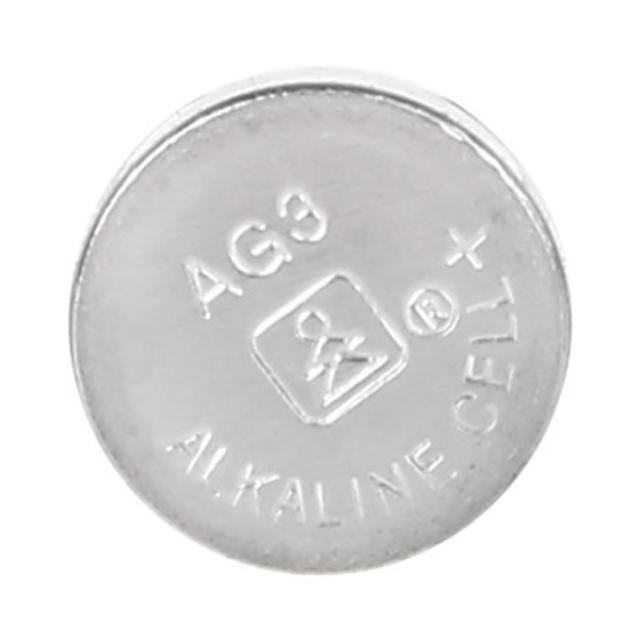COIN: (66, 63, 574, 576)
